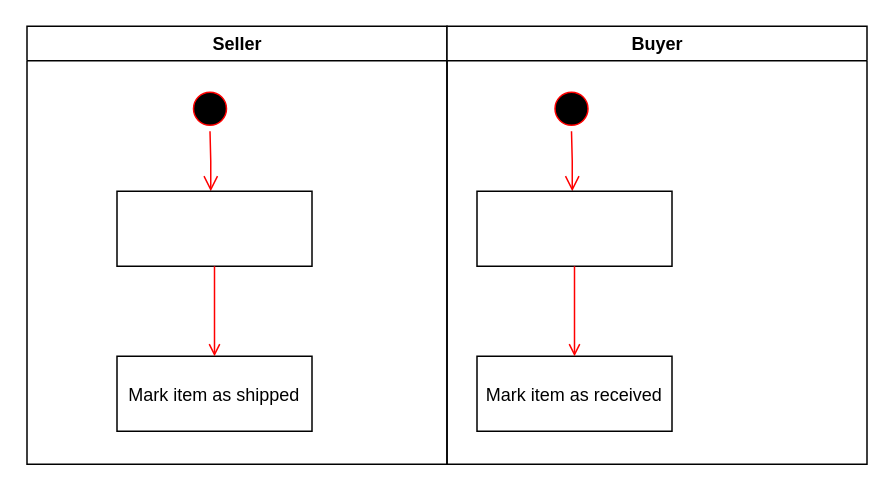
This 893x491 diagram has some shape labels left out. The shapes that lost their labels are listed below. From the top down, each one's centre as x and y in pixels, then its label:
At (214,228): "Add item".
At (574,228): "Buy item".
